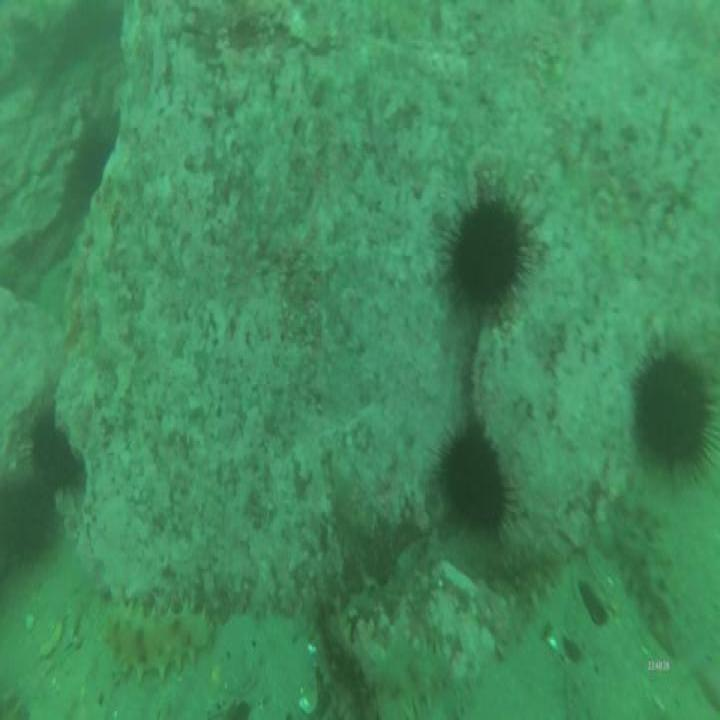echinus: (436, 172, 537, 322), (623, 338, 719, 483), (430, 410, 520, 548), (26, 398, 81, 496), (73, 128, 117, 208)
holothurian: (607, 486, 686, 668), (94, 594, 219, 693), (370, 636, 475, 720), (458, 540, 566, 608)
